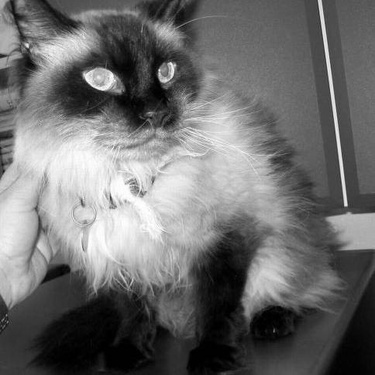cat: (1, 1, 345, 347)
